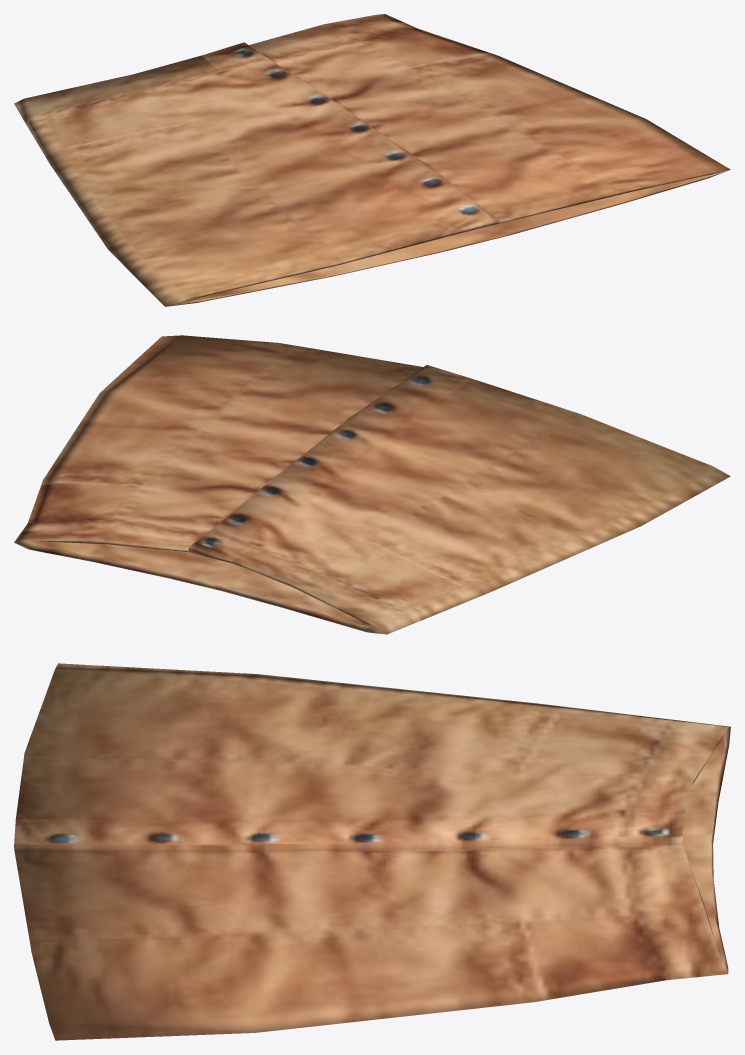
The model's file is jupe-doeskin.obj.
3 renders of one model, top to bottom at view 1: azimuth 30°, elevation 25°; view 2: azimuth 150°, elevation 25°; view 3: azimuth 270°, elevation 25°, orthographic. The views are drawn at different scales.
Visible parts, largest first — view 1: jupe_Plane.001; view 2: jupe_Plane.001; view 3: jupe_Plane.001.
Boxes of the visible parts, x1,y1,x2,y2 form: jupe_Plane.001: [14, 14, 730, 306]; jupe_Plane.001: [14, 335, 730, 634]; jupe_Plane.001: [14, 663, 730, 1040].
Size of the model in its own units: 40.2 by 1.75 by 32.29.
1 material, 1 textured.
